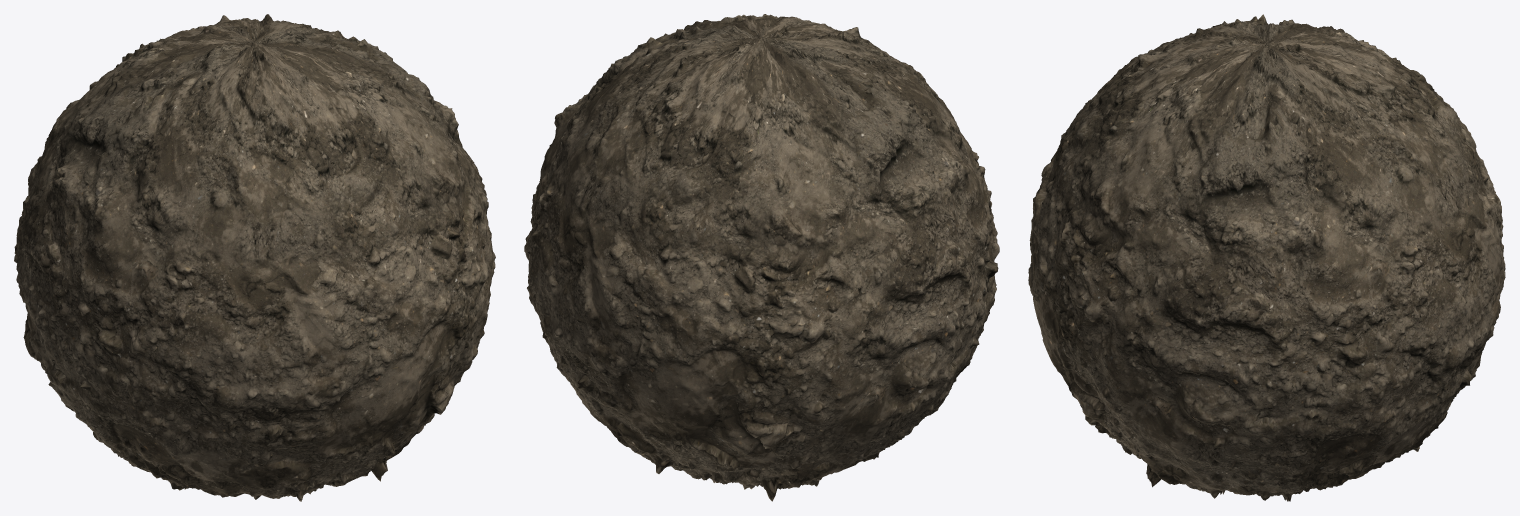
Rendered from brown_mud_03_2k.gltf.
3 renders of one model, left to right at view 1: azimuth 30°, elevation 25°; view 2: azimuth 150°, elevation 25°; view 3: azimuth 270°, elevation 25°, orthographic.
Parts seen in each view (by area): view 1: sphere_gltf; view 2: sphere_gltf; view 3: sphere_gltf.
Boxes of the visible parts, box(x1,y1,x2,y2) form: sphere_gltf: box(14, 14, 495, 501); sphere_gltf: box(524, 14, 999, 501); sphere_gltf: box(1028, 14, 1505, 501).
Size of the model in its own units: 1.25 by 1.27 by 1.25.
Materials: 1 (1 with a texture image).
